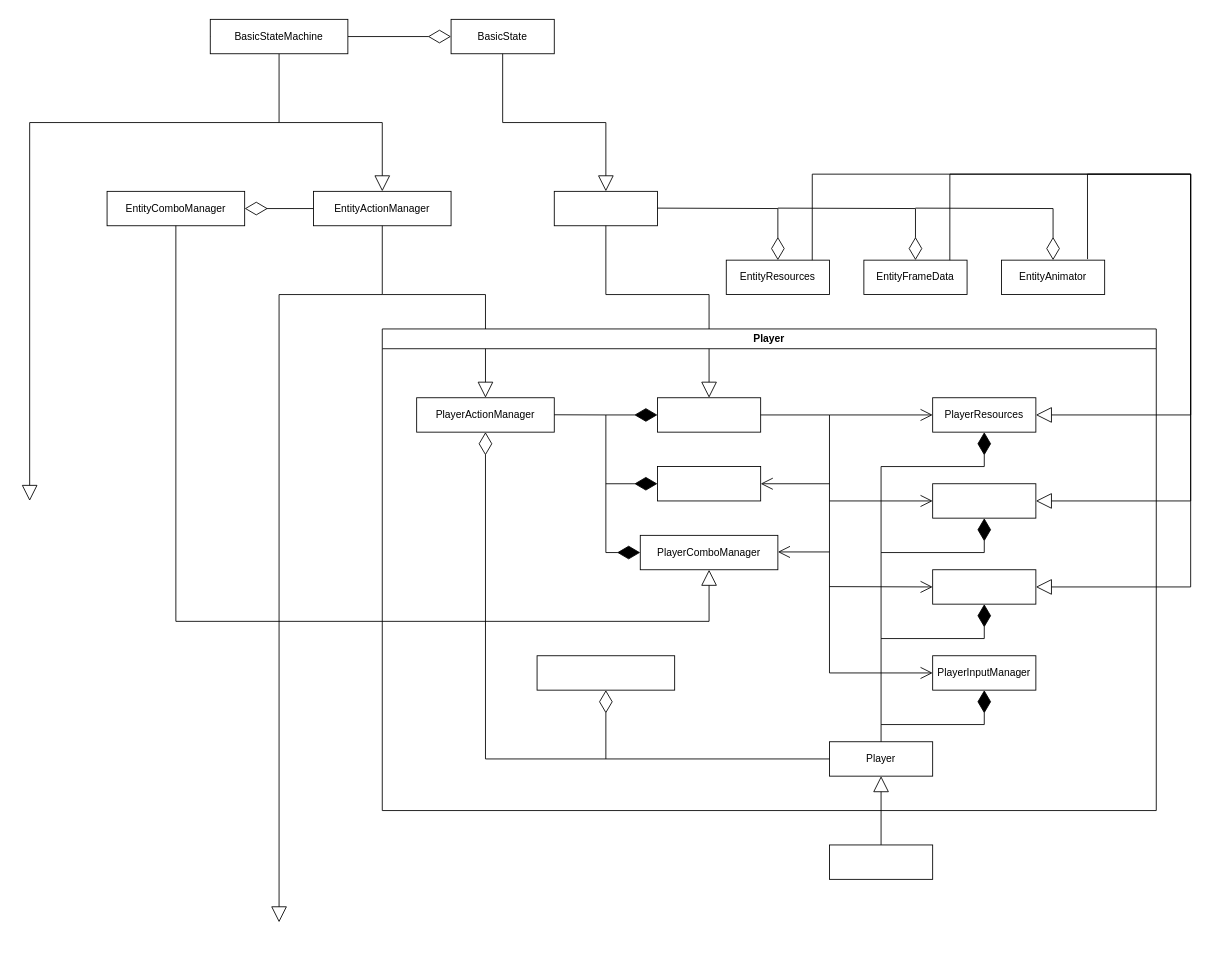
Some shapes in this 1221 by 953 pixel diagram are drawn without their labels. The centre of each missing label's shape, as x and y in pixels:
EntityAction: (x=605, y=208)
FloatingBody: (x=881, y=861)
PlayerAction: (x=709, y=414)
PlayerAnimator: (x=984, y=586)
PlayerCameraManager: (x=605, y=672)
PlayerFrameData: (x=984, y=500)
PlayerPhysics: (x=709, y=483)
